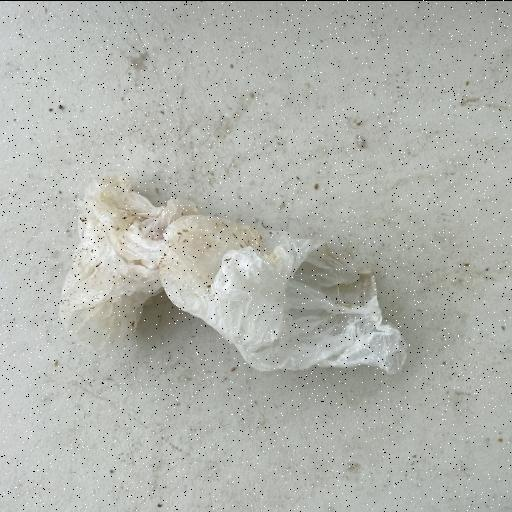Plastic: (56, 174, 408, 377)
